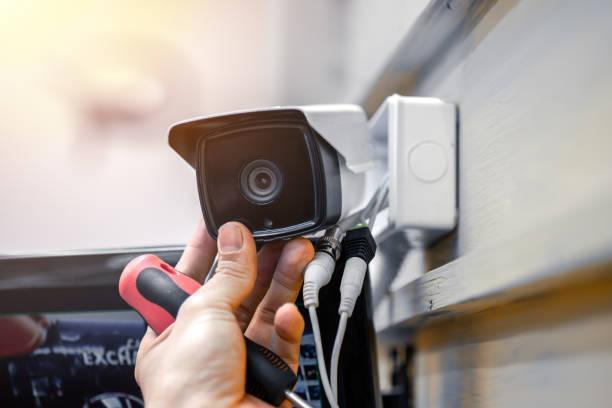camera: (125, 90, 411, 274)
